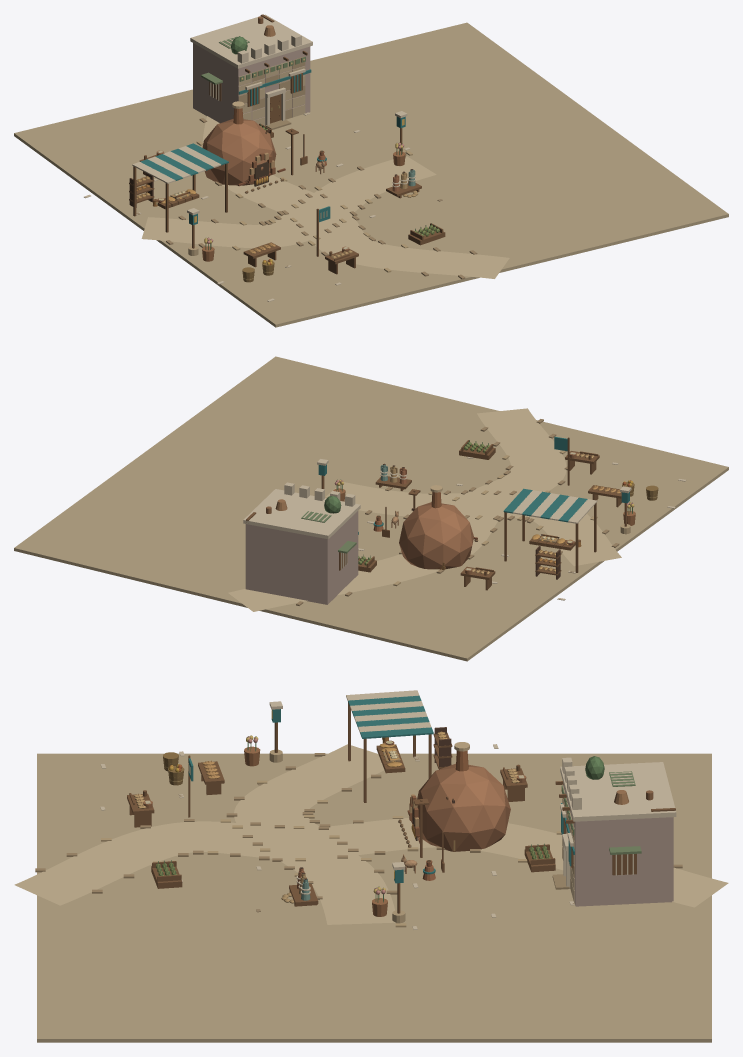
File: city-bakery.glb
3 views of the same model, one above another, from view 1: azimuth 30°, elevation 25°; view 2: azimuth 150°, elevation 25°; view 3: azimuth 270°, elevation 25° (orthographic). The views are drawn at different scales.
Visible parts, largest first — view 1: city-bakery; view 2: city-bakery; view 3: city-bakery.
Part boxes in pixels (bbox=[...]): city-bakery: bbox=[14, 14, 728, 327]; city-bakery: bbox=[14, 356, 728, 661]; city-bakery: bbox=[14, 690, 728, 1042].
Bounding box in the file's own units: 32.97 × 7.05 × 33.91.
